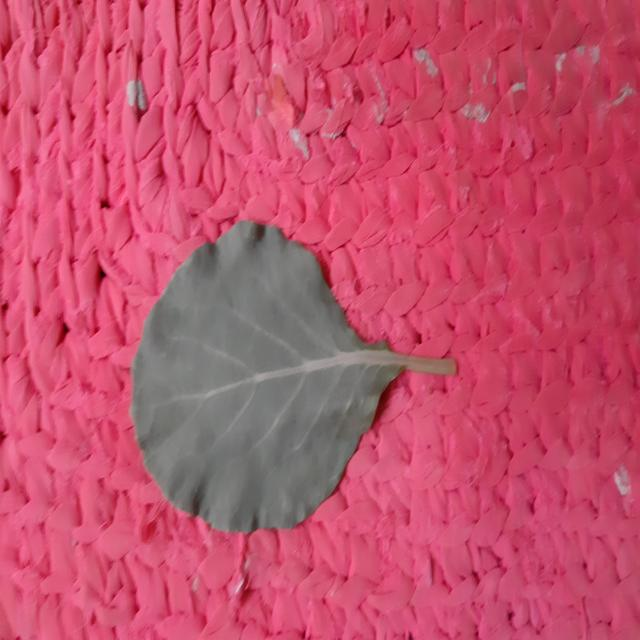Kohlrabi: (131, 220, 456, 533)
